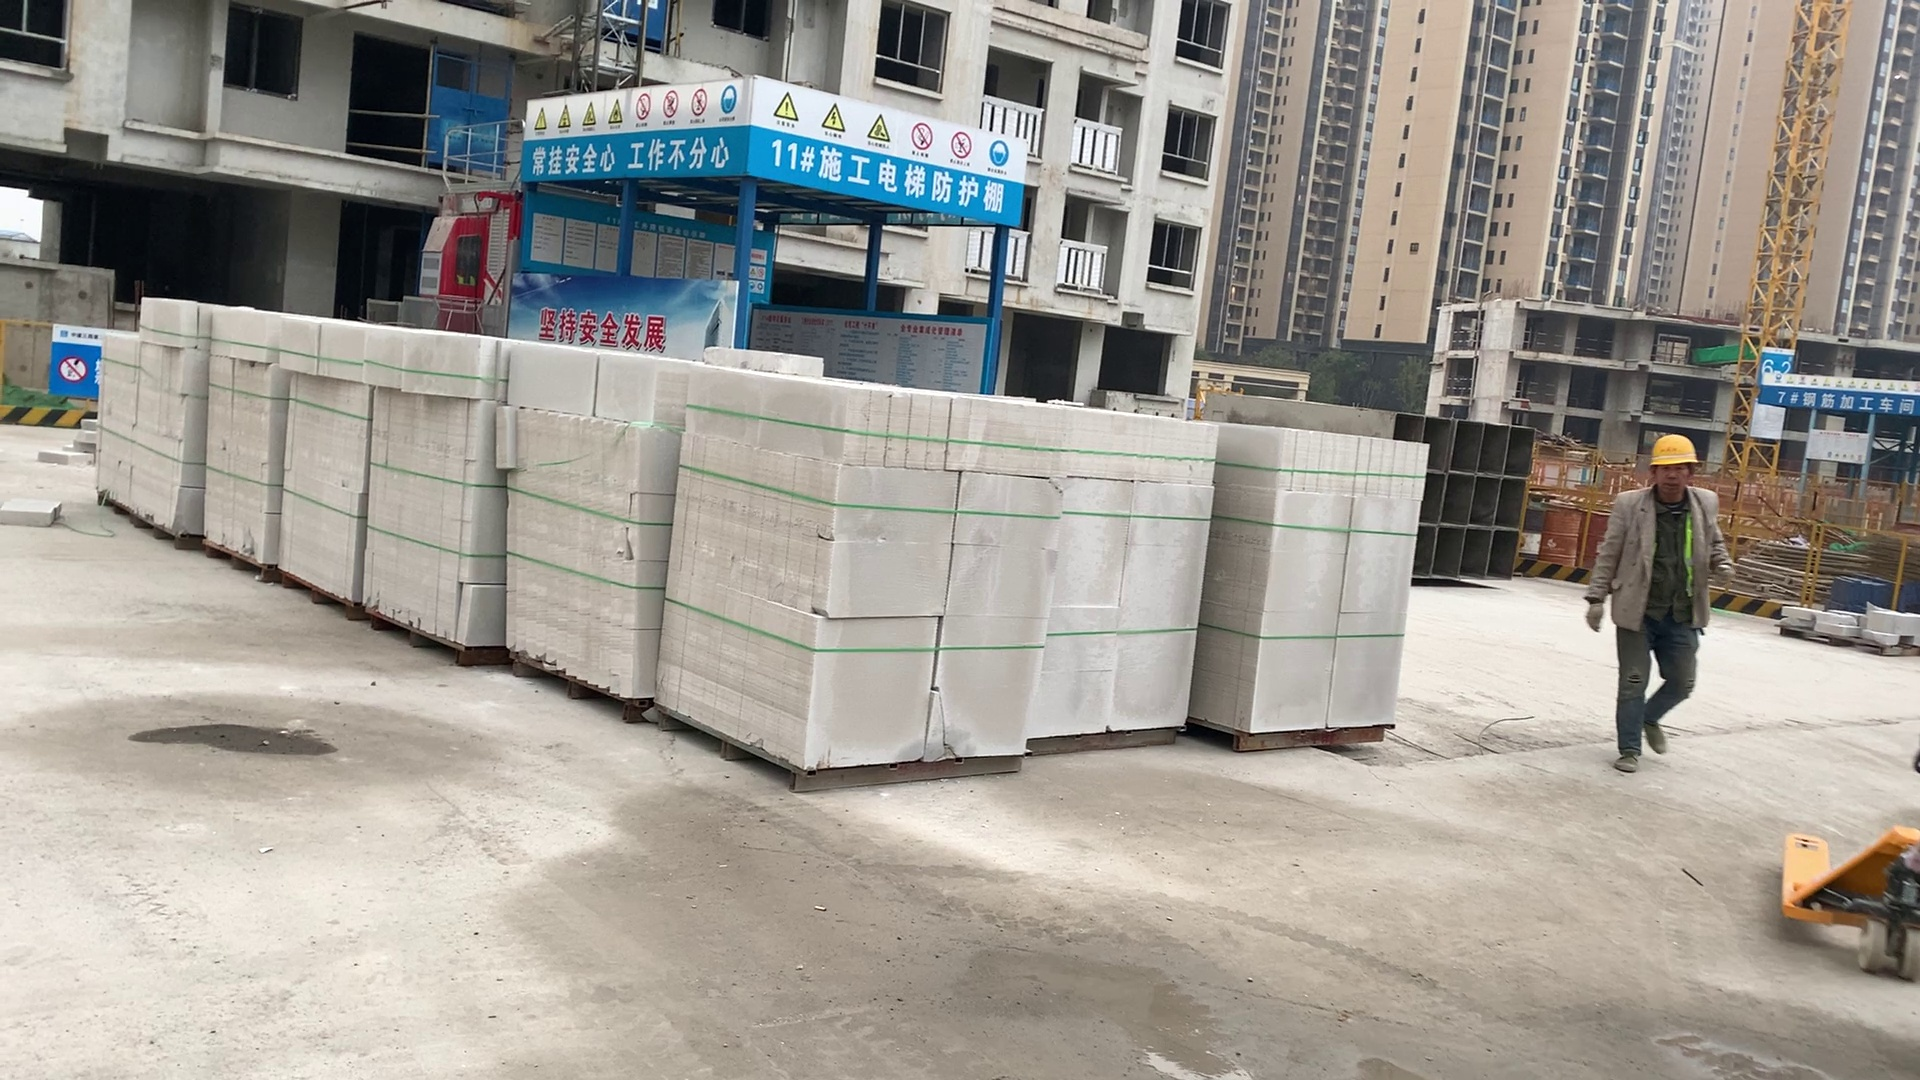brickwork: (657, 369, 1060, 775), (1216, 427, 1429, 754), (1039, 404, 1216, 742), (500, 349, 655, 700), (368, 331, 497, 649), (273, 314, 369, 607), (100, 287, 196, 538), (196, 306, 277, 566)
